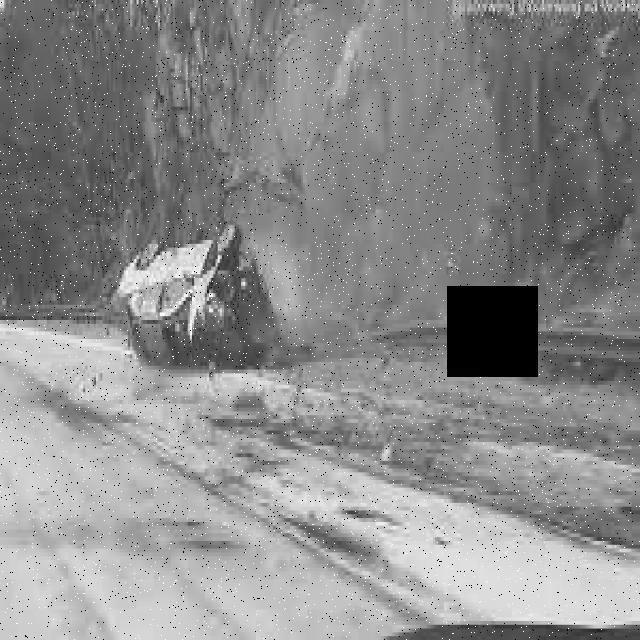accident: (117, 212, 277, 372)
